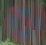No Stopping: (1, 4, 43, 44)
